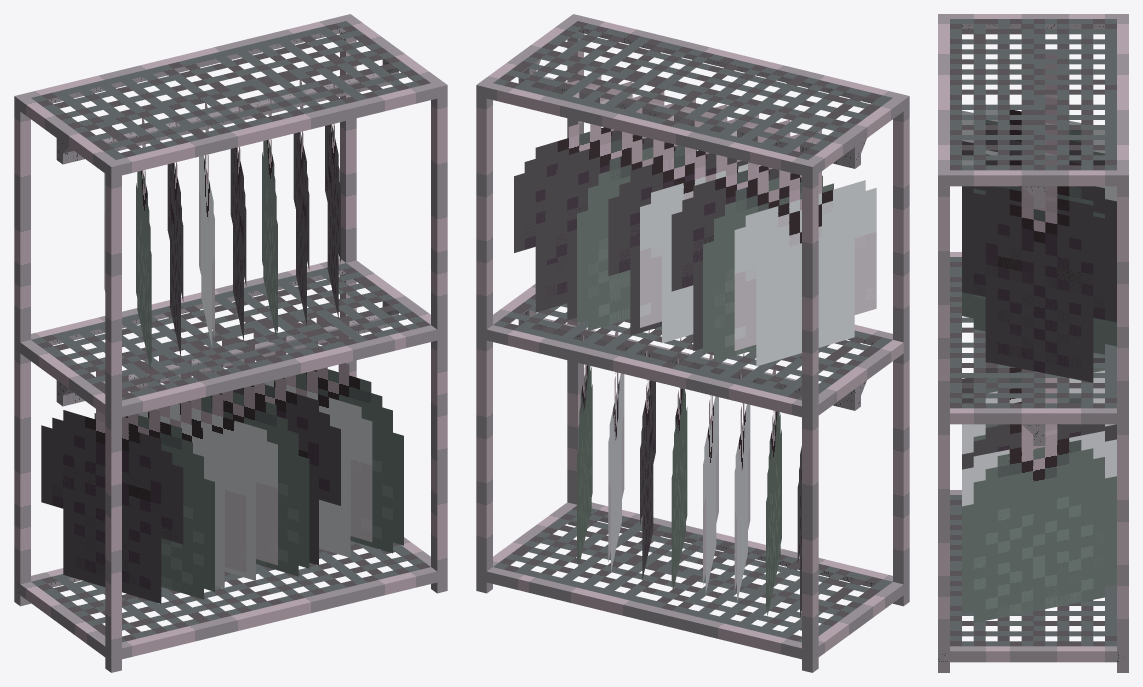
Rendered from ClothingRack.fbx.
3 renders of one model, left to right at view 1: azimuth 30°, elevation 25°; view 2: azimuth 150°, elevation 25°; view 3: azimuth 270°, elevation 25°, orthographic.
Parts seen in each view (by area): view 1: Cube.011; view 2: Cube.011; view 3: Cube.011.
Part boxes in pixels (left/top/right/bottom): Cube.011: left=14, top=14, right=447, bottom=672; Cube.011: left=476, top=14, right=909, bottom=672; Cube.011: left=938, top=14, right=1128, bottom=672.
Bounding box in the file's own units: 200 × 288 × 100.
